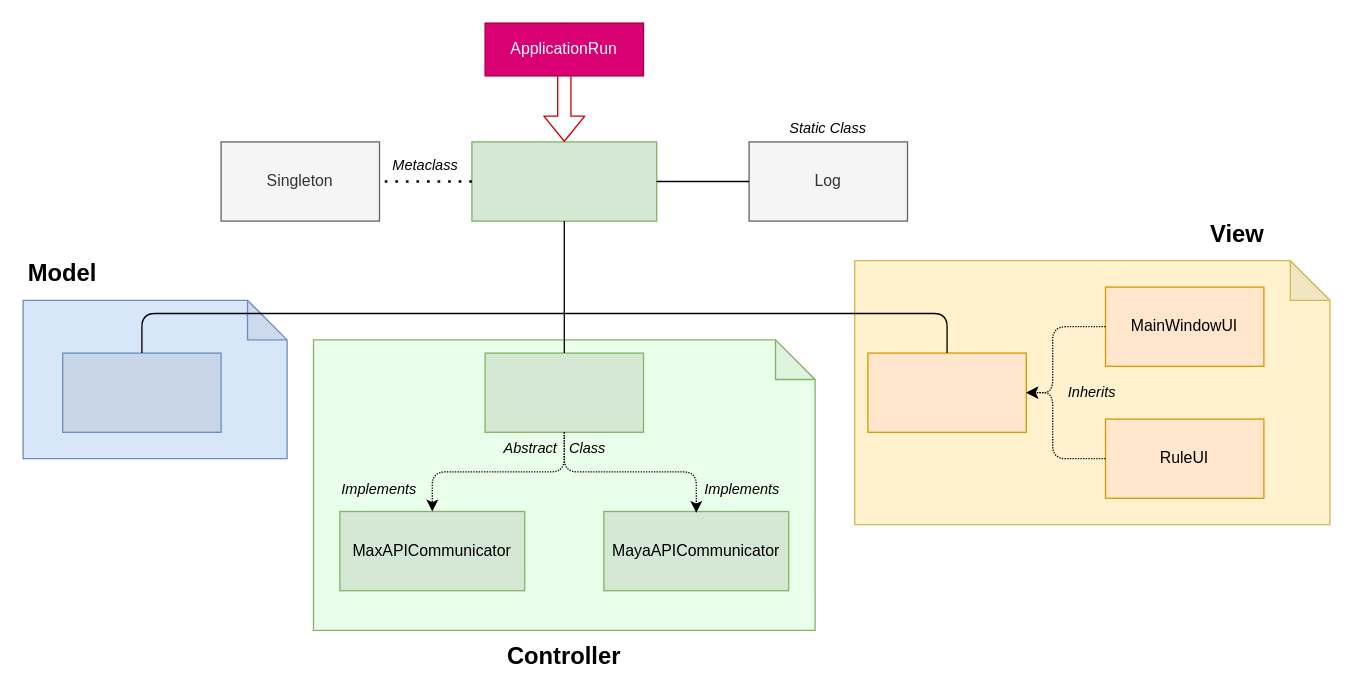
The diagram is 1353 pixels wide and 694 high, and some of its shapes have lost their labels. Here are the shapes that lost their labels. From the top down, the box of each, then its label:
(471, 141, 657, 221): MainWindowManager
(61, 352, 221, 432): Rule
(484, 352, 644, 432): APICommunicator
(867, 352, 1026, 432): MainWindow
